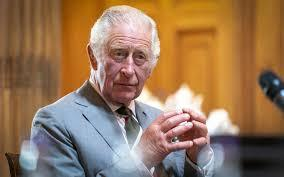Persons: (83, 6, 168, 106)
